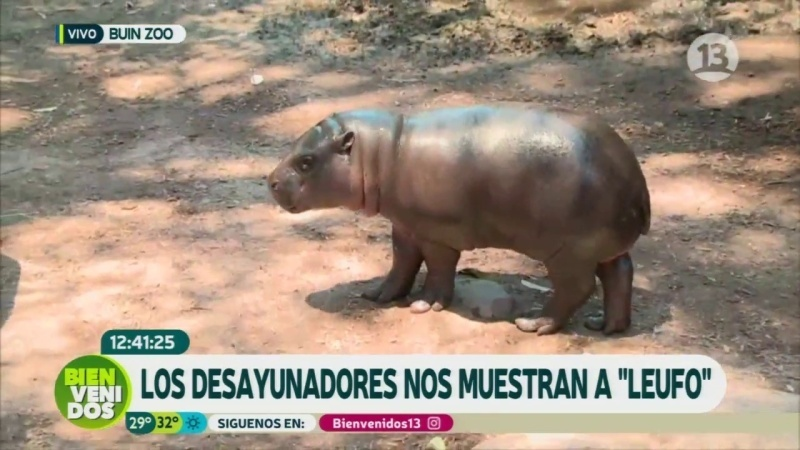hipopotamo: (249, 67, 673, 349)
